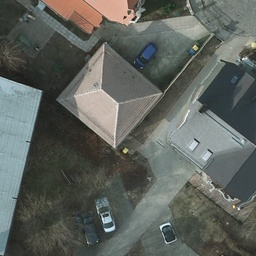car: (94, 198, 116, 233), (134, 42, 156, 70), (81, 213, 97, 246), (158, 221, 177, 244)
